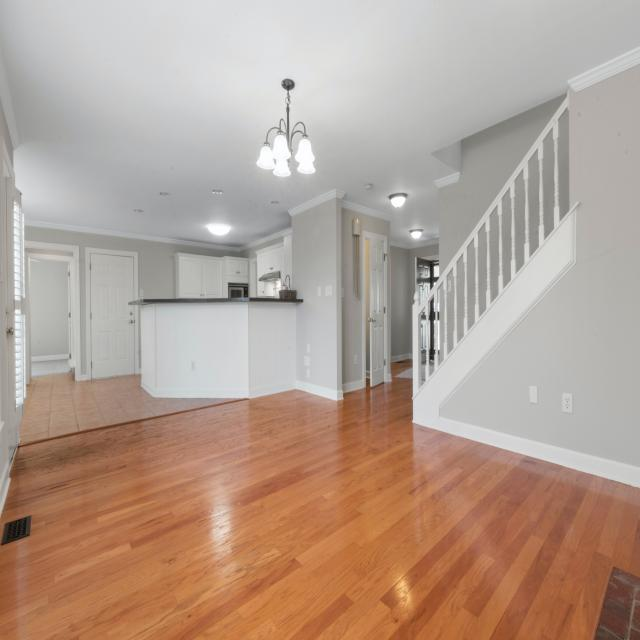floor: (0, 358, 640, 640)
wall: (439, 63, 640, 469), (24, 225, 240, 375), (438, 92, 567, 278), (141, 302, 296, 389), (291, 197, 337, 391), (341, 207, 391, 384), (30, 259, 69, 358), (408, 243, 439, 359), (390, 246, 410, 363), (336, 197, 342, 391), (240, 236, 283, 259), (138, 305, 142, 369)
